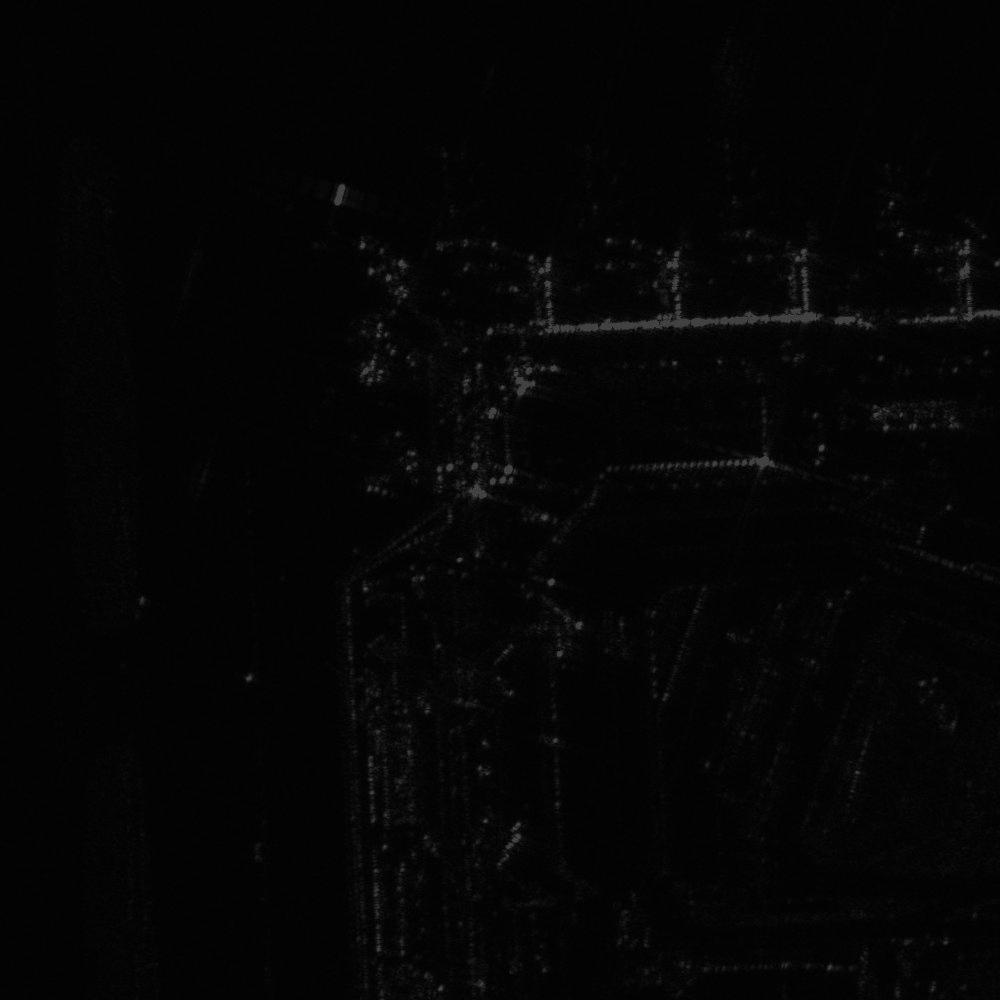A220: (543, 139, 654, 225)
Boeing787: (684, 139, 771, 239)
other: (409, 143, 492, 230), (849, 153, 949, 217)
